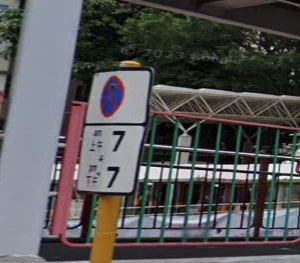Start Of No Stopping: (76, 63, 156, 196)
